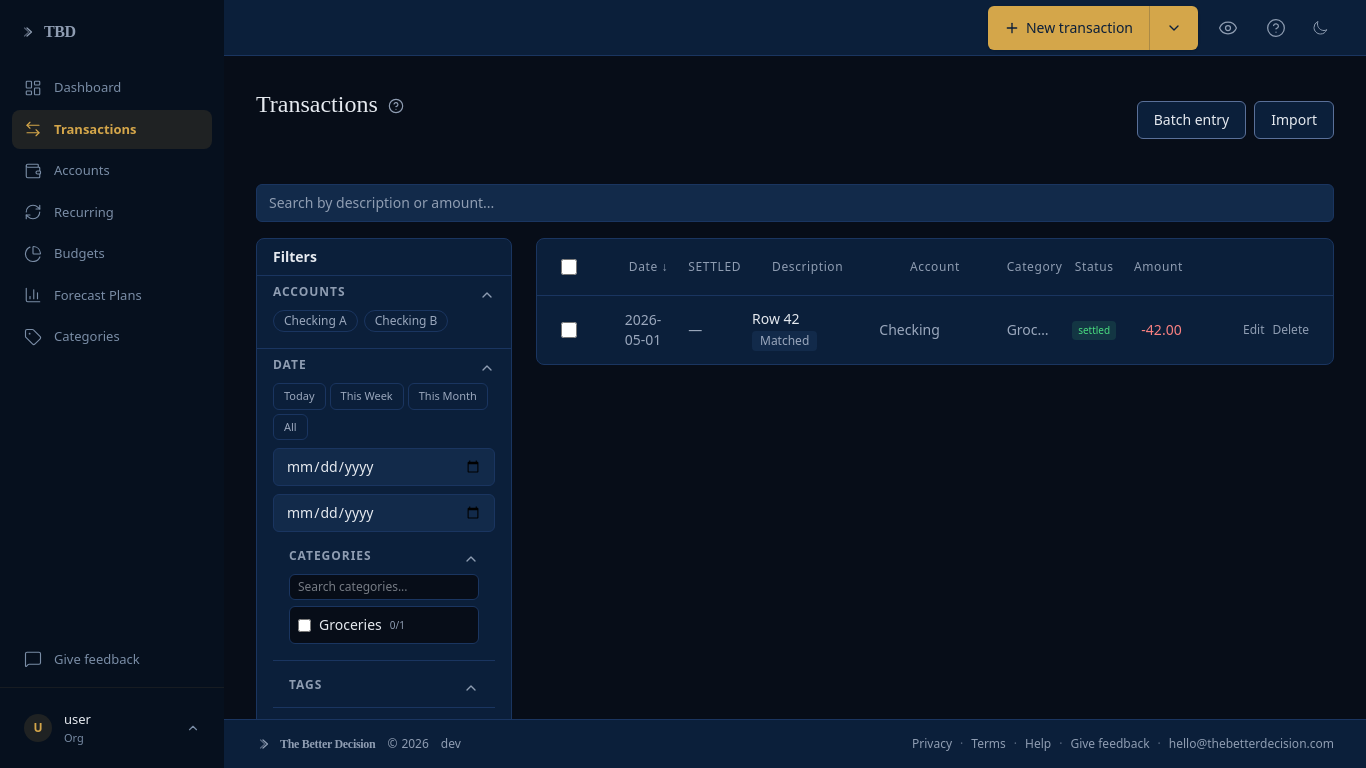
Test: TransactionsPage — transfer collapse (TBD-268) › F7c: a reconcile-matched row renders as an ORDINARY transaction on BOTH renderers
This screenshot has width=1366, height=768.
Expected: the text "-42.00" is shown, [1141,320,1182,339]
Expected: the link with test id "matched-badge-42" is shown, [752,331,817,351]
Click the button with aria-label "Edit: Row 42" at (1254, 330), box [1243,322,1264,338]
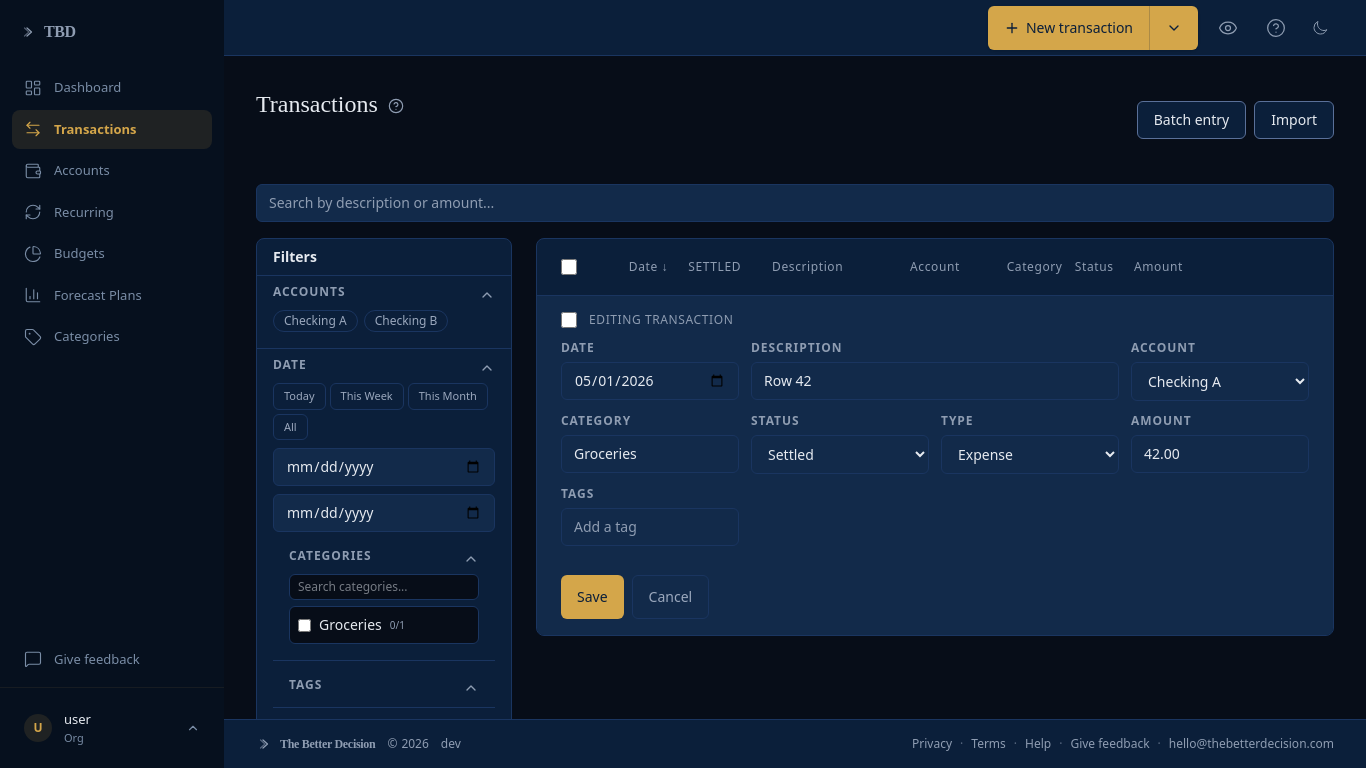
Now the dropdown labelled "Category" is shown, box [561,435,739,473]
